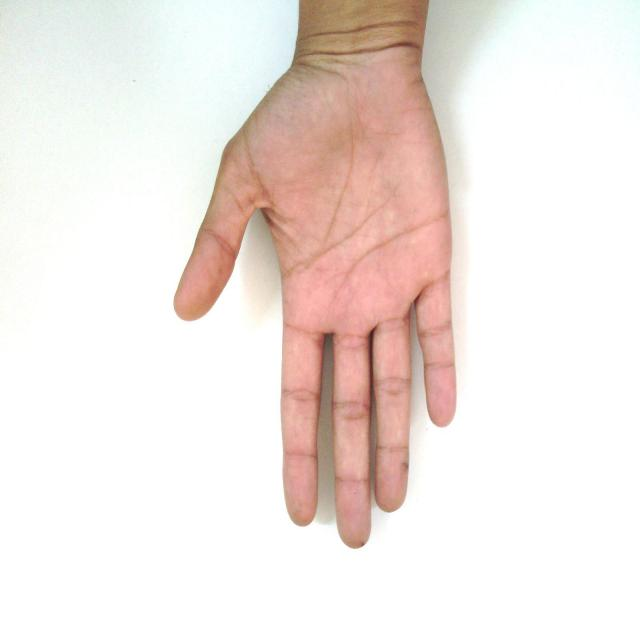others: (171, 0, 537, 550)
